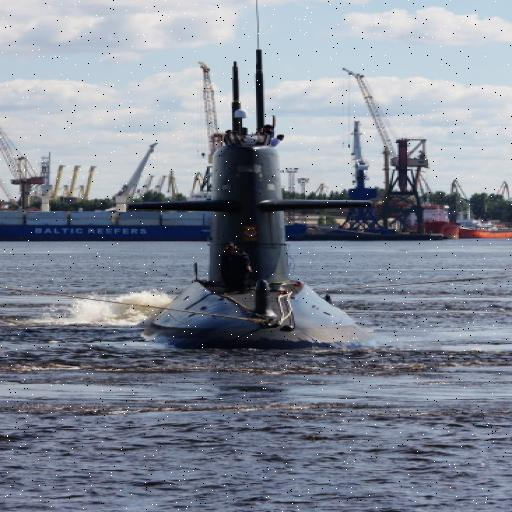submarine: (101, 30, 396, 355)
